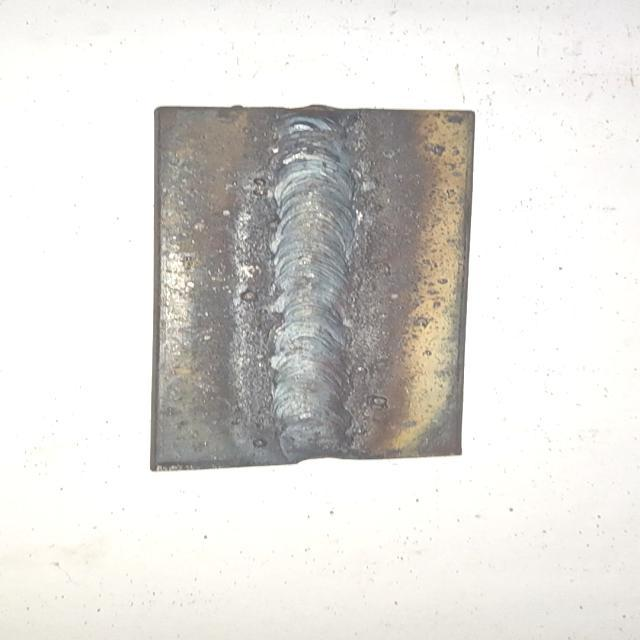Welding Line: (273, 115, 351, 456)
Workpiece: (146, 102, 483, 476)
